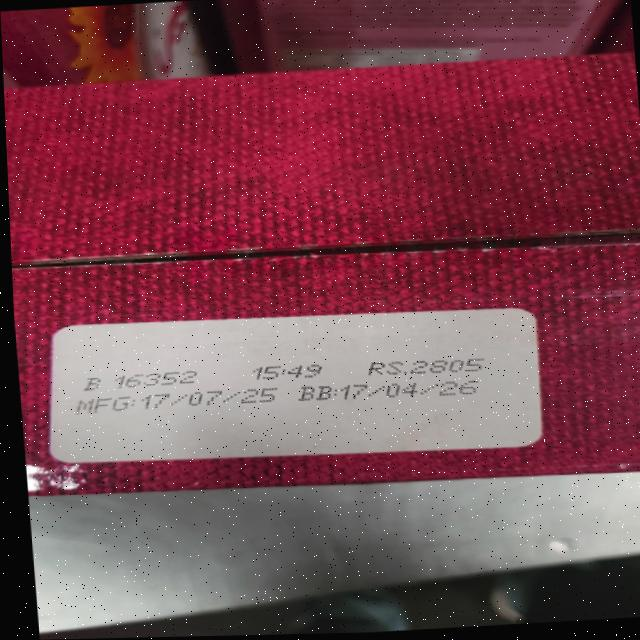BB: (297, 376, 484, 404)
Batch: (81, 370, 202, 391)
MFG: (77, 386, 275, 414)
RS: (365, 355, 491, 377)
TimeStamp: (248, 362, 325, 381)
